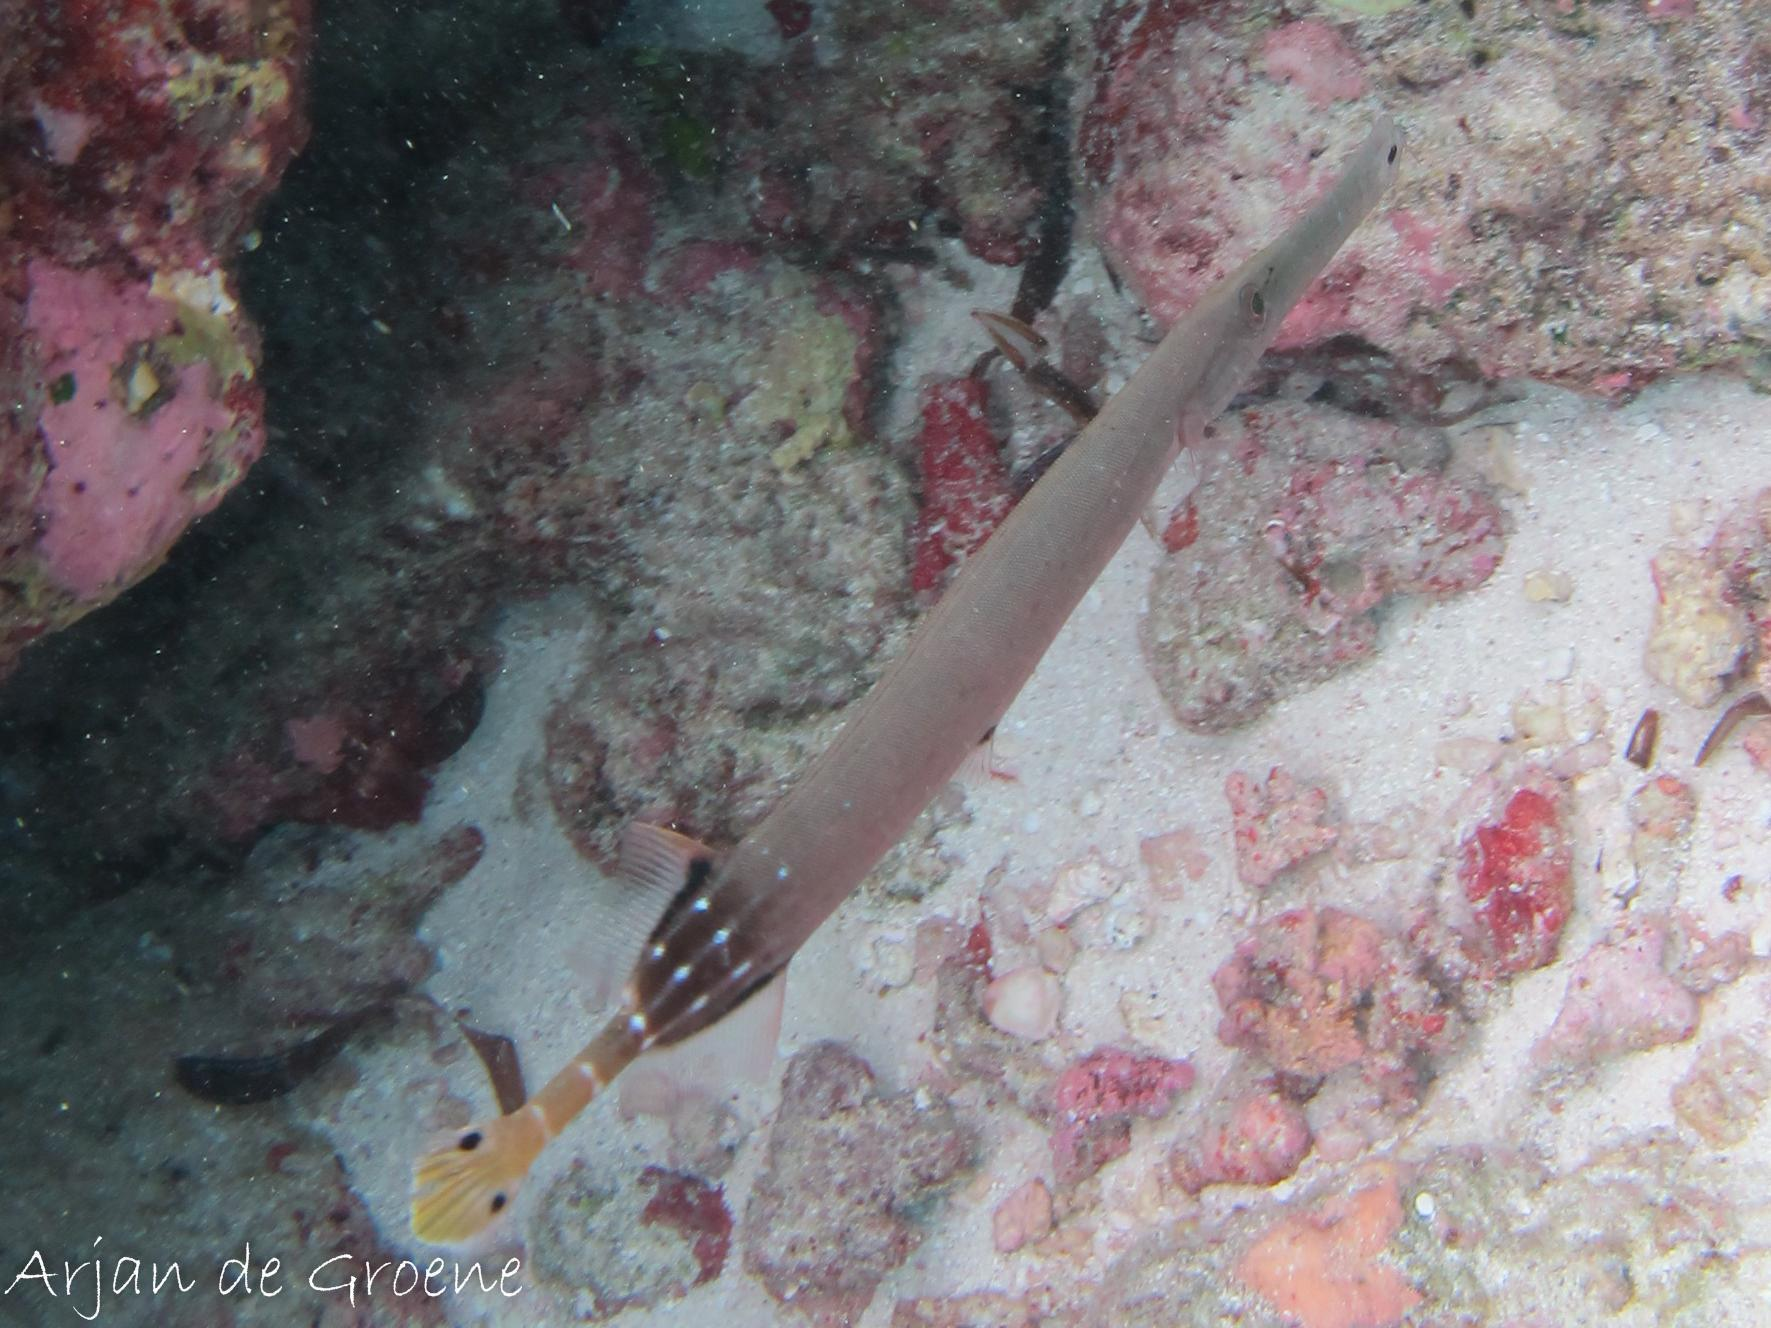Fish: (356, 59, 1468, 1248)
